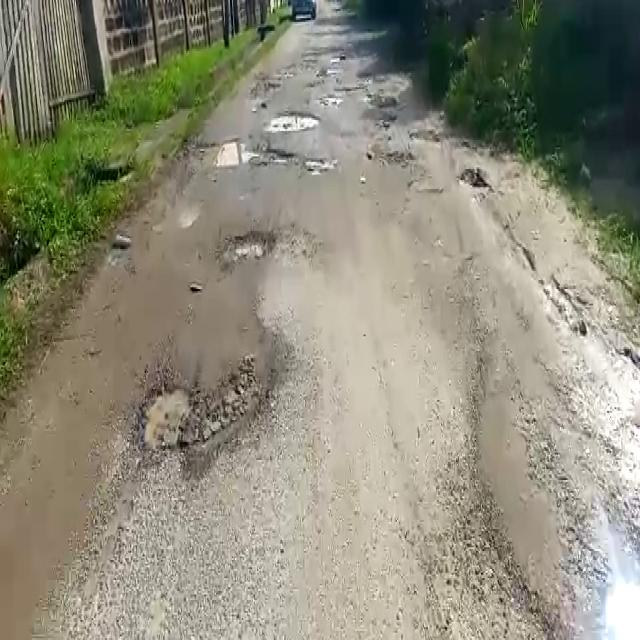Pothole: (136, 348, 284, 464), (601, 566, 640, 640), (207, 138, 296, 168), (218, 226, 280, 264), (266, 110, 325, 131), (303, 153, 335, 173)
